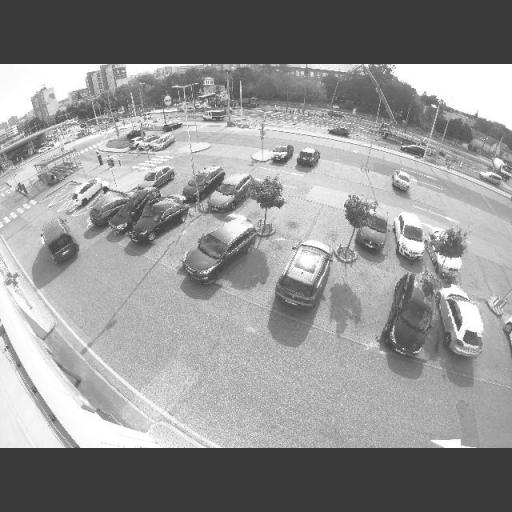busy: (378, 271, 448, 359), (180, 211, 256, 287), (436, 284, 490, 362), (274, 240, 332, 312), (126, 195, 188, 247), (389, 211, 433, 264), (424, 228, 470, 278), (354, 202, 393, 254), (207, 173, 257, 213), (108, 192, 154, 234), (42, 217, 80, 263), (86, 192, 128, 227), (180, 167, 222, 198), (64, 180, 106, 210), (138, 166, 174, 190), (388, 170, 412, 194), (294, 148, 320, 168), (150, 133, 176, 152), (269, 146, 294, 164), (139, 134, 157, 149)
free: (340, 274, 386, 315), (478, 328, 510, 366), (247, 250, 281, 280), (173, 224, 206, 253), (279, 202, 313, 228), (316, 216, 346, 240), (460, 265, 486, 289), (484, 274, 506, 294), (460, 207, 480, 225), (320, 162, 340, 177), (410, 187, 428, 203), (344, 169, 362, 183), (430, 193, 446, 207), (171, 179, 189, 191), (370, 176, 387, 188), (448, 201, 461, 212)
